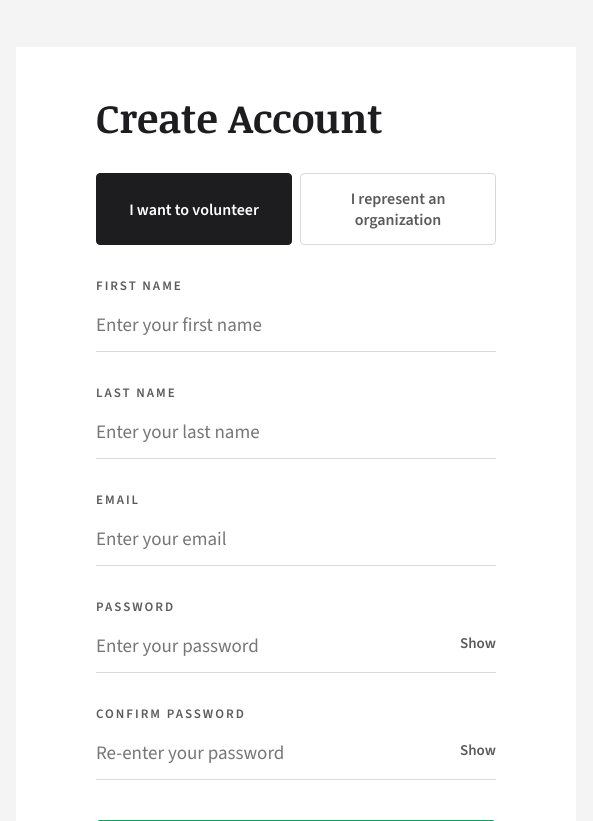
Test: a volunteer email that is already registered shows the message
This screenshot has width=593, height=821.
In the field with placeholder "Enter your first name": (296, 325) x1=96 y1=298 x2=496 y2=352, type "Amy"
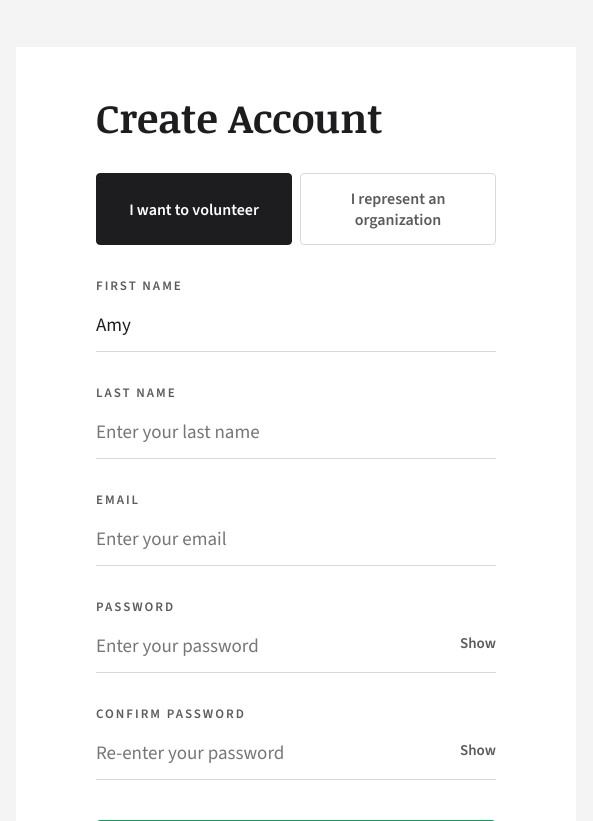
In the field with placeholder "Enter your last name": (296, 432) x1=96 y1=405 x2=496 y2=459, type "Lee"
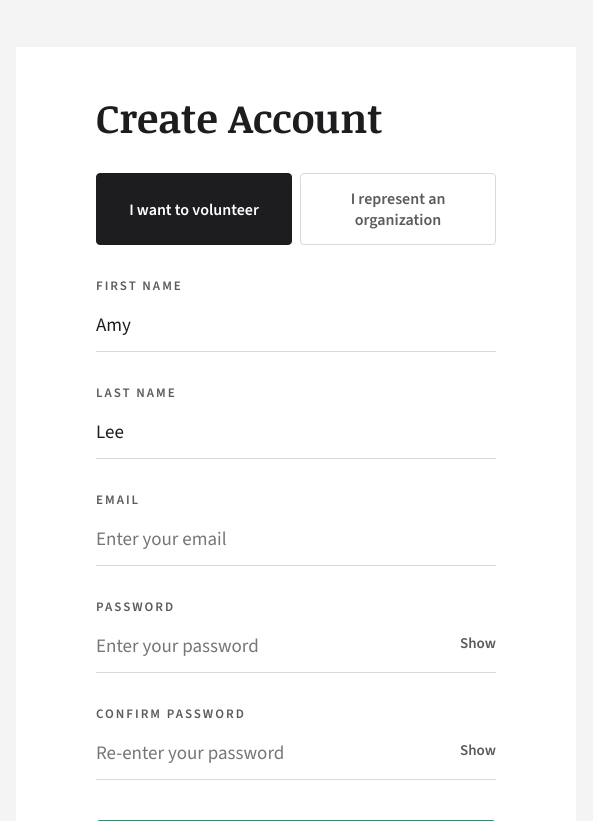
In the field with placeholder "Enter your email": (296, 539) x1=96 y1=512 x2=496 y2=566, type "amy@example.test"
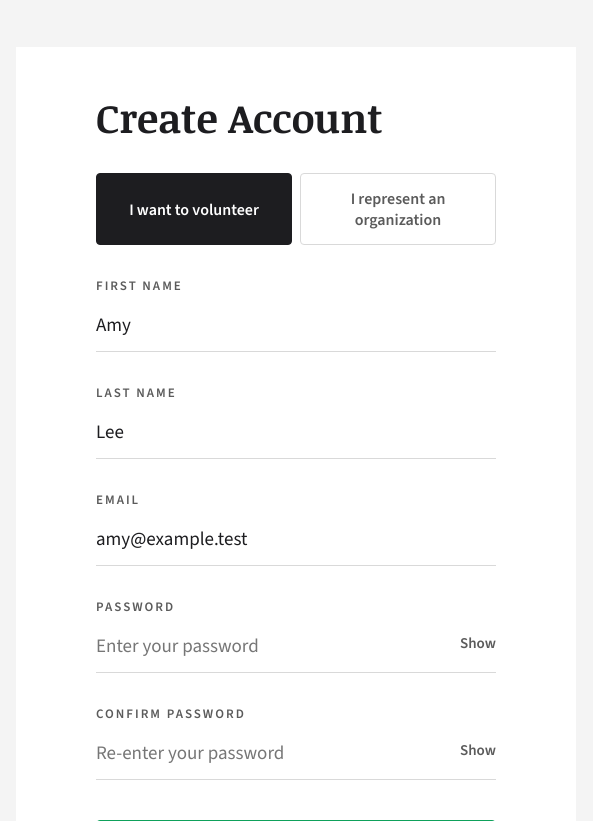
In the password field with placeholder "Enter your password": (296, 646) x1=96 y1=619 x2=496 y2=673, type "AmyPass123"
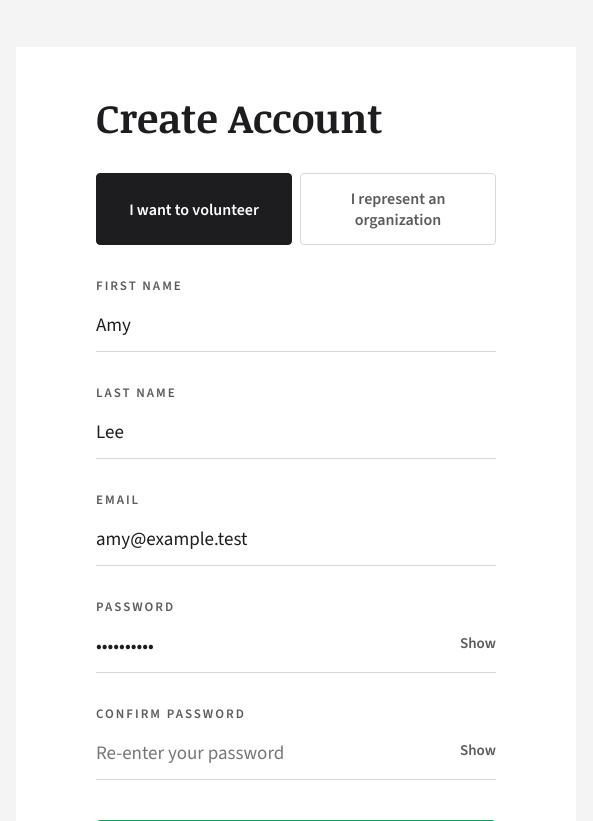
In the password field with placeholder "Re-enter your password": (296, 753) x1=96 y1=726 x2=496 y2=780, type "AmyPass123"
(page scrolled)
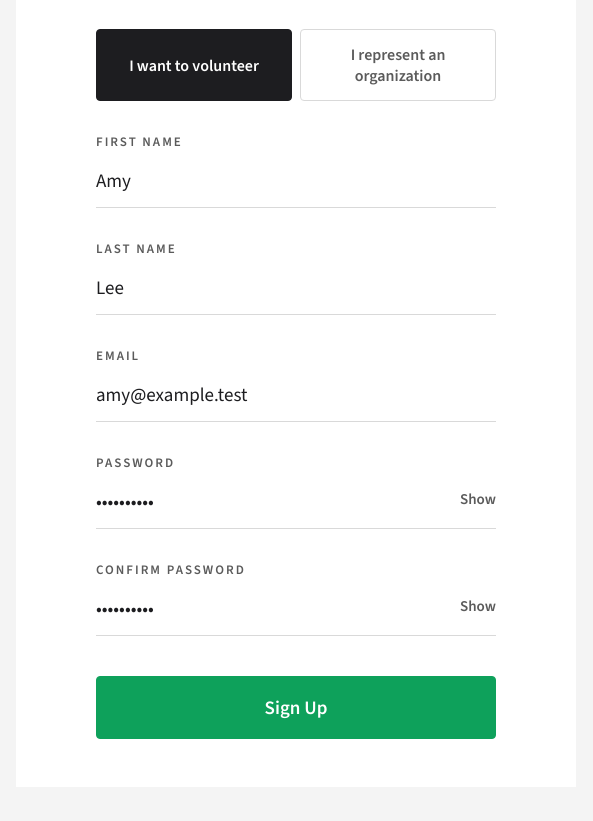
Click the button "Sign Up": (296, 708) x1=96 y1=676 x2=496 y2=739
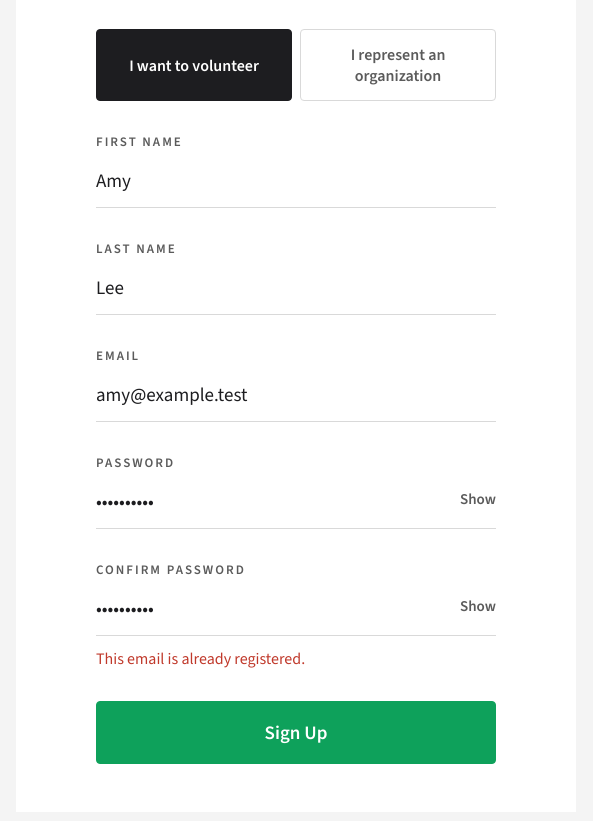
Result: the text "This email is already registered." is shown at x1=96 y1=648 x2=305 y2=669
